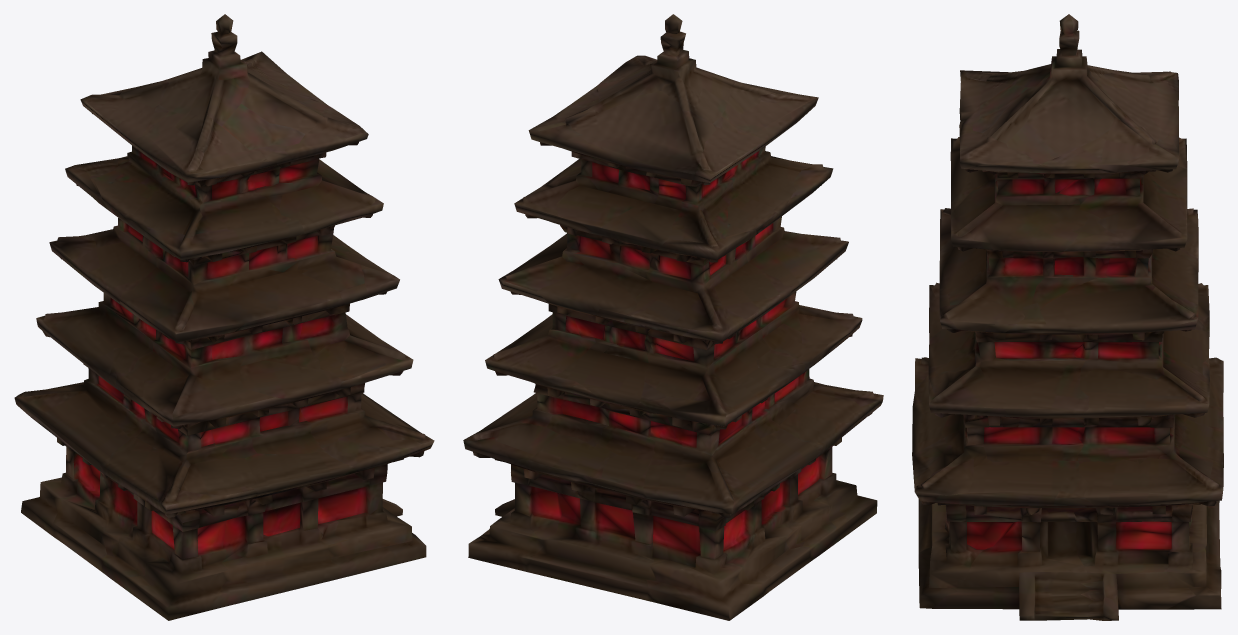
The model's file is pagodaTower.glb.
3 views of the same model, side by side, from view 1: azimuth 30°, elevation 25°; view 2: azimuth 150°, elevation 25°; view 3: azimuth 270°, elevation 25° (orthographic).
Visible parts, largest first — view 1: tripo_node_c340810e-b9be-4b8a-b285-774efc81cf17; view 2: tripo_node_c340810e-b9be-4b8a-b285-774efc81cf17; view 3: tripo_node_c340810e-b9be-4b8a-b285-774efc81cf17.
Part boxes in pixels (bbox=[...]): tripo_node_c340810e-b9be-4b8a-b285-774efc81cf17: bbox=[14, 14, 434, 620]; tripo_node_c340810e-b9be-4b8a-b285-774efc81cf17: bbox=[463, 14, 883, 620]; tripo_node_c340810e-b9be-4b8a-b285-774efc81cf17: bbox=[912, 14, 1223, 620].
Size of the model in its own units: 0.5817 by 1 by 0.5318.
Materials: 1 (1 with a texture image).
